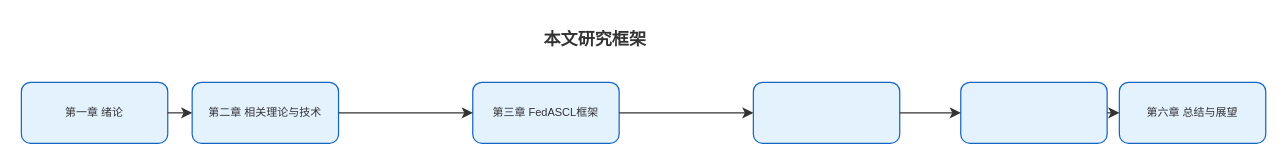
This 1287x165 diagram has some shape labels left out. The centre of each missing label's shape, as x and y in pixels:
"第五章 系统实现" goes at [1033,112].
"第四章 语义感知压缩" goes at [826,112].
